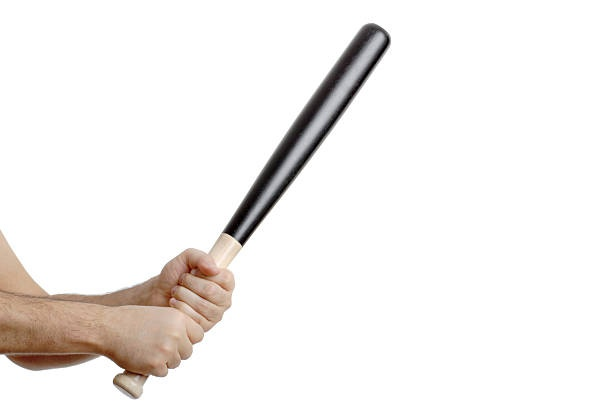bita: (118, 24, 383, 395)
